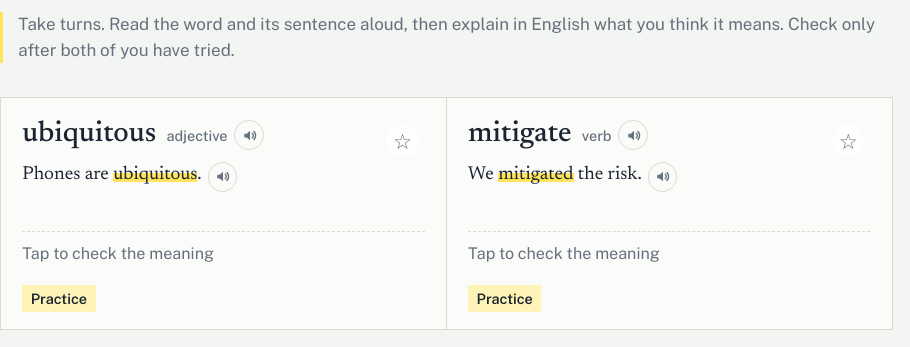
VocabularyTab › shows the synonyms only with the definition, and no line when a word has none
The width and height of the screenshot is (910, 347).
Expected: the text "everywhere, common" is not shown
Click the button "Tap to check the meaning" below "Phones are": [118, 254] box [22,231,425,266]
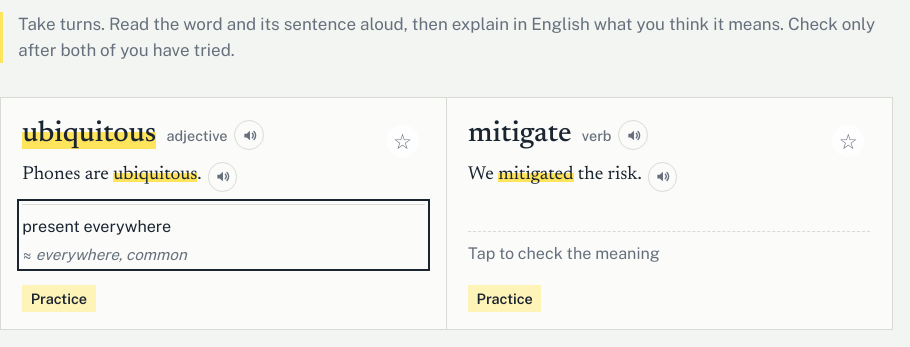
Result: the button named "Tap to check the meaning" reads "present everywhere ≈ everywhere, common" at [22,204,425,266]
Click the button "Tap to check the meaning": [564, 254] box [468,231,870,266]
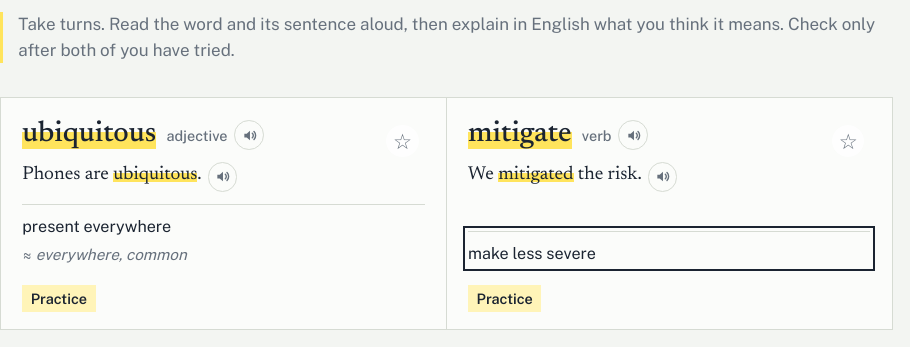
Result: the button named "Tap to check the meaning" reads "make less severe" at [468,231,870,266]
